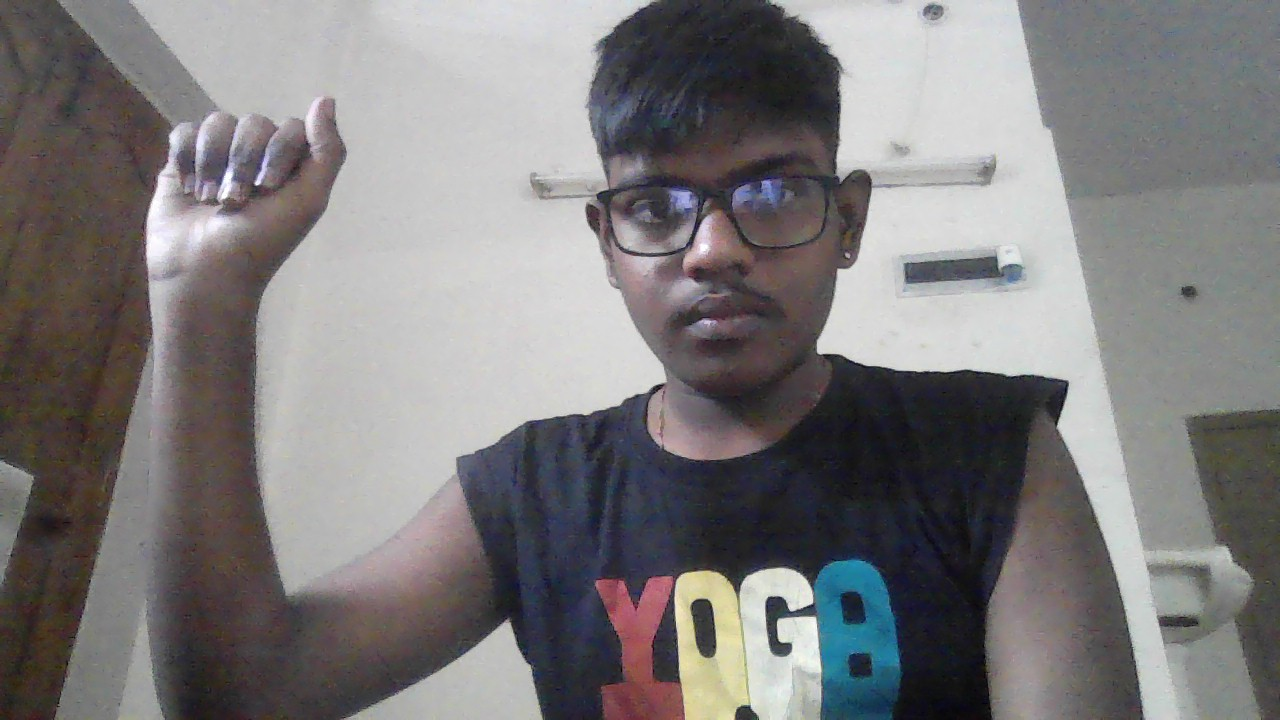A: (145, 97, 347, 285)
